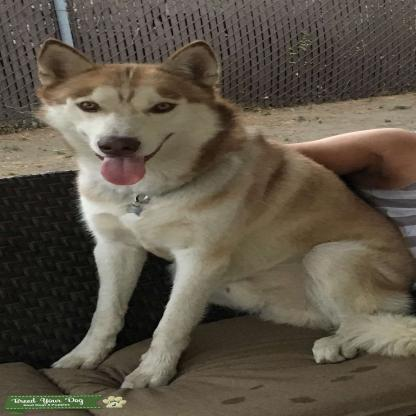husky: (29, 41, 412, 392)
